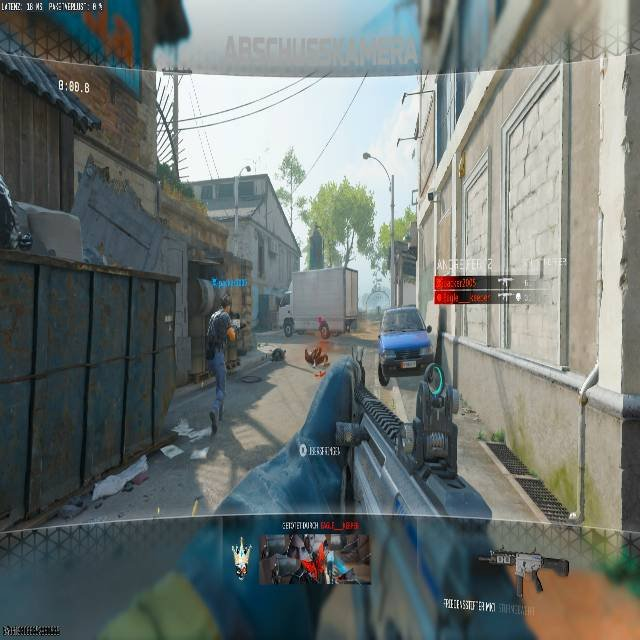head: (219, 295, 231, 310)
player: (205, 294, 243, 436), (277, 304, 295, 341), (317, 315, 329, 340), (283, 314, 294, 337)
